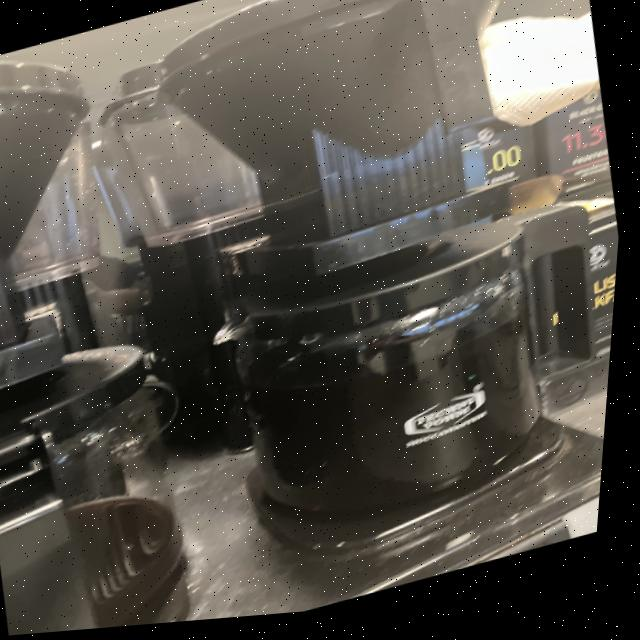coffee: (202, 206, 596, 551), (0, 308, 254, 640)
